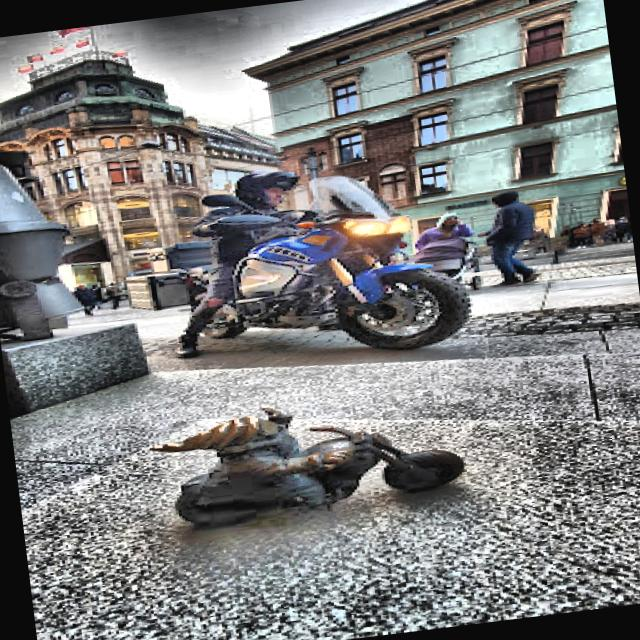Wentyl: (151, 409, 462, 525)
